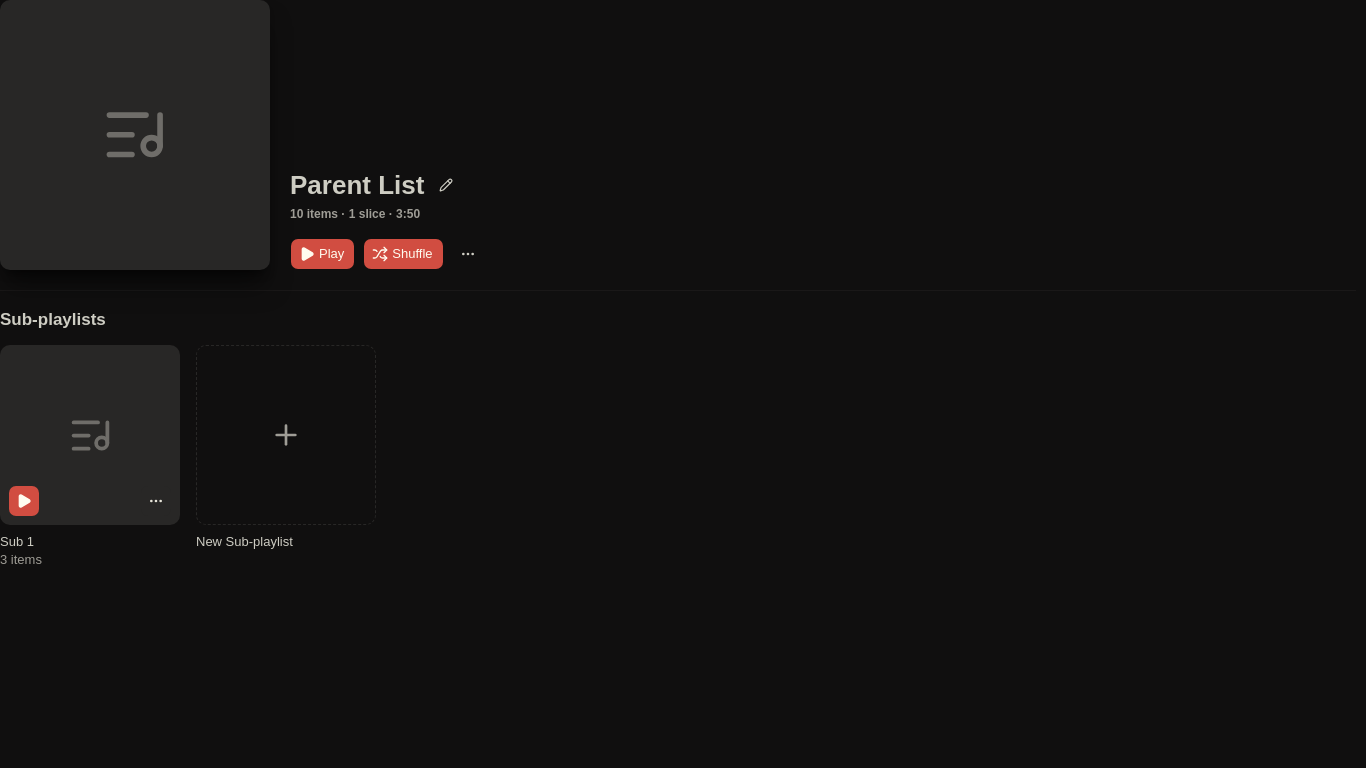
PlaylistHeader Component (TDD) › sub-playlists › starts a new sub-playlist from the tile after the sub-playlists
Click the button "New Sub-playlist" at (286, 448), box [196, 345, 376, 551]
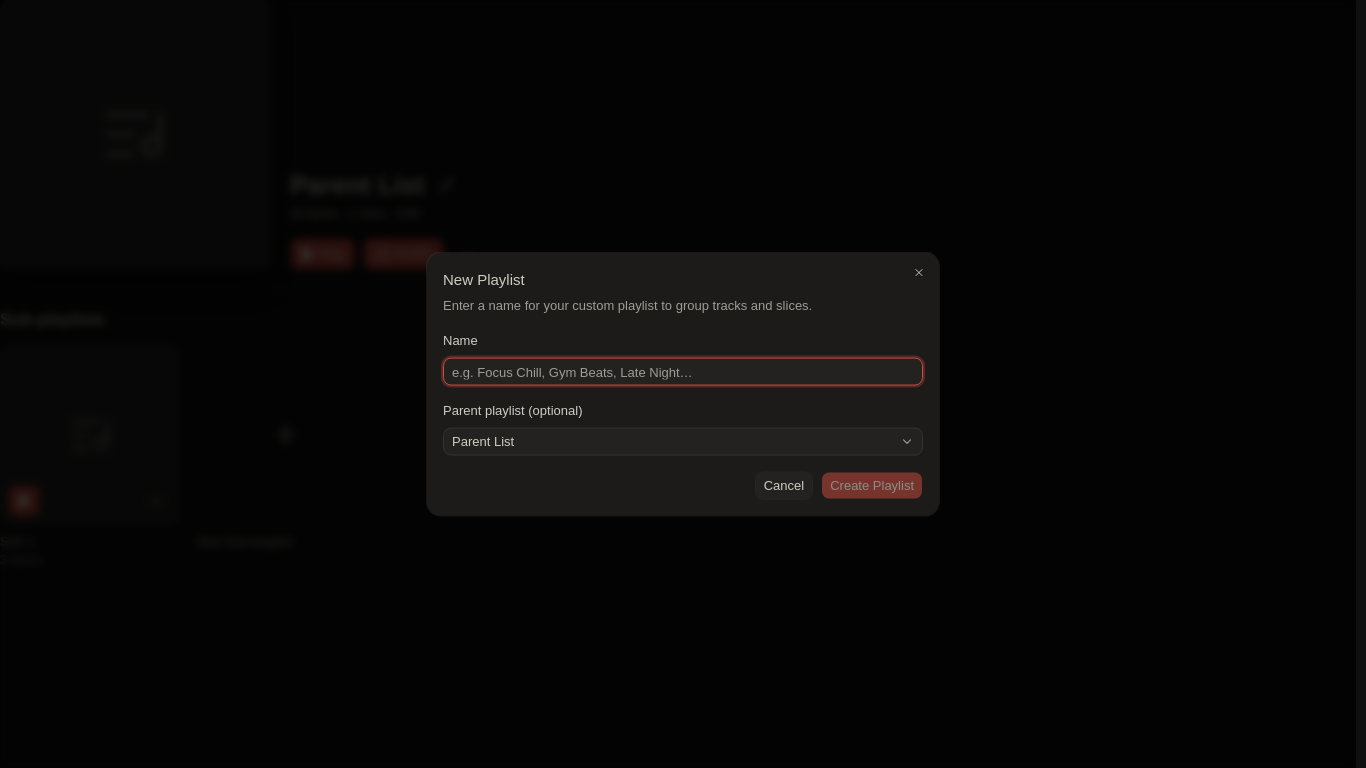
Expected: the dropdown labelled "Parent List ▼" is shown, [443, 427, 923, 455]
